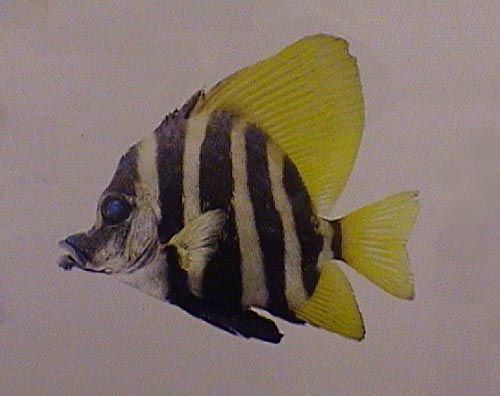fish: (56, 33, 420, 345)
